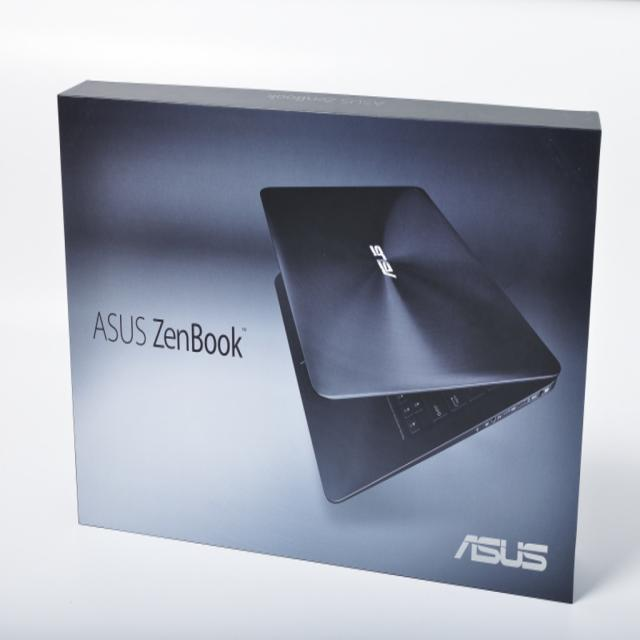Box: (59, 78, 602, 605)
